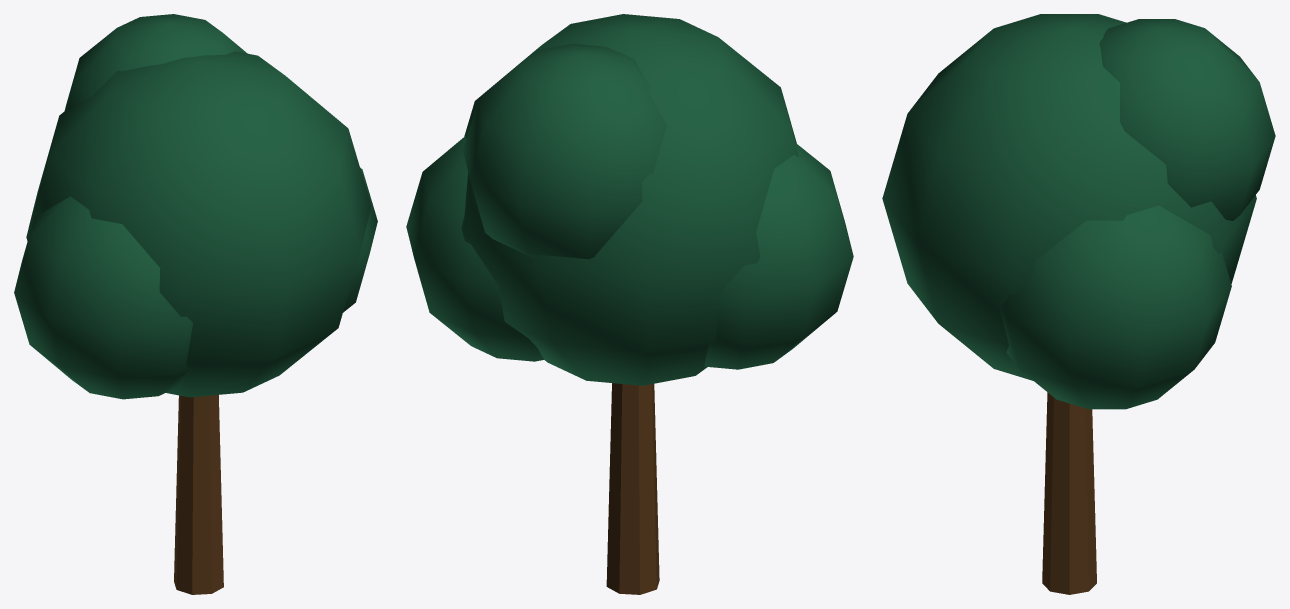
The model's file is tree_round.glb.
3 views of the same model, side by side, from view 1: azimuth 30°, elevation 25°; view 2: azimuth 150°, elevation 25°; view 3: azimuth 270°, elevation 25° (orthographic). The views are drawn at different scales.
Visible parts, largest first — view 1: leaf, wood; view 2: leaf, wood; view 3: leaf, wood.
Boxes of the visible parts, x1,y1,x2,y2 form: leaf: [14, 14, 377, 399]; wood: [174, 395, 223, 594]; leaf: [406, 14, 853, 385]; wood: [606, 383, 659, 594]; leaf: [882, 14, 1275, 409]; wood: [1042, 392, 1096, 594].
Bounding box in the file's own units: 3.5 × 4.95 × 3.15.
